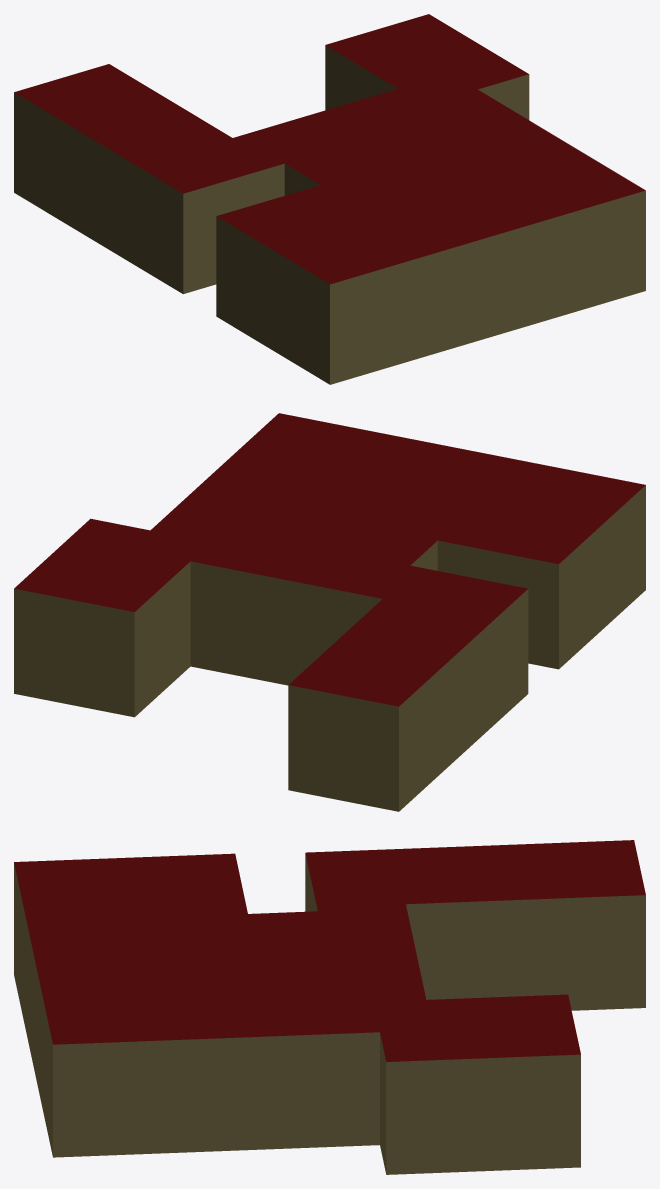
Rendered from Building_Kassar_House_Export.FBX.
3 renders of one model, top to bottom at view 1: azimuth 30°, elevation 25°; view 2: azimuth 150°, elevation 25°; view 3: azimuth 270°, elevation 25°, orthographic. The views are drawn at different scales.
Visible parts, largest first — view 1: Building_Kassar_House_Export; view 2: Building_Kassar_House_Export; view 3: Building_Kassar_House_Export.
Boxes of the visible parts, box(x1,y1,x2,y2) form: Building_Kassar_House_Export: box(14, 14, 645, 384); Building_Kassar_House_Export: box(14, 413, 645, 811); Building_Kassar_House_Export: box(14, 840, 645, 1174).
Bounding box in the file's own units: 12.46 × 2.95 × 14.98.
